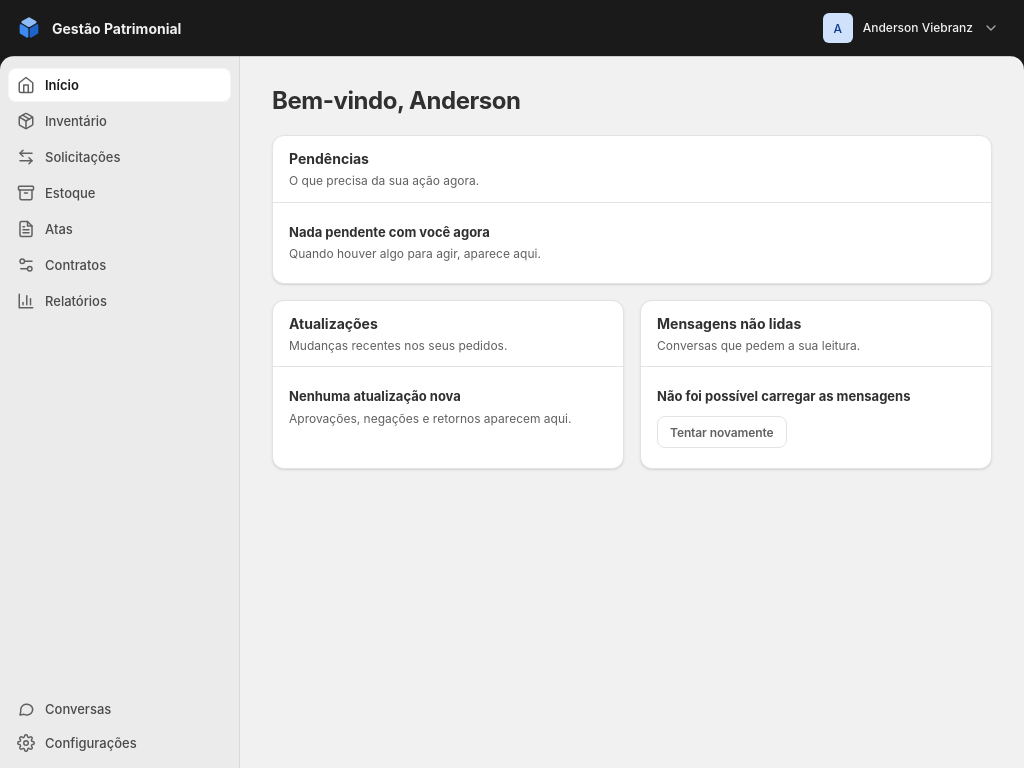
it: Relatórios (Administrador) › Empréstimos: mostra cards de resumo e a tabela com equipamento/patrimônio/status
Expected: the heading "Bem-vindo, Anderson" is shown, 272,88 -> 521,115
Step 1. Click the link "Relatórios" → (62, 301), box 17,292 -> 107,310
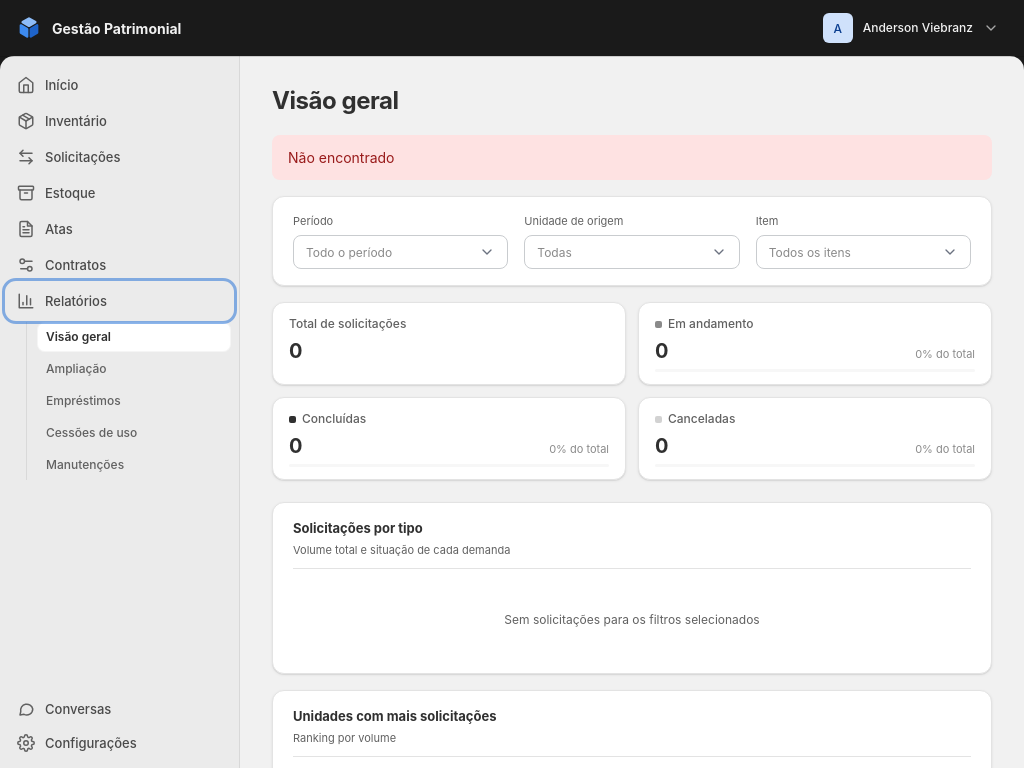
Result: the heading "Visão geral" is shown at 272,88 -> 399,115
Step 2. Click the link "Empréstimos" → (83, 400), box 46,393 -> 121,408
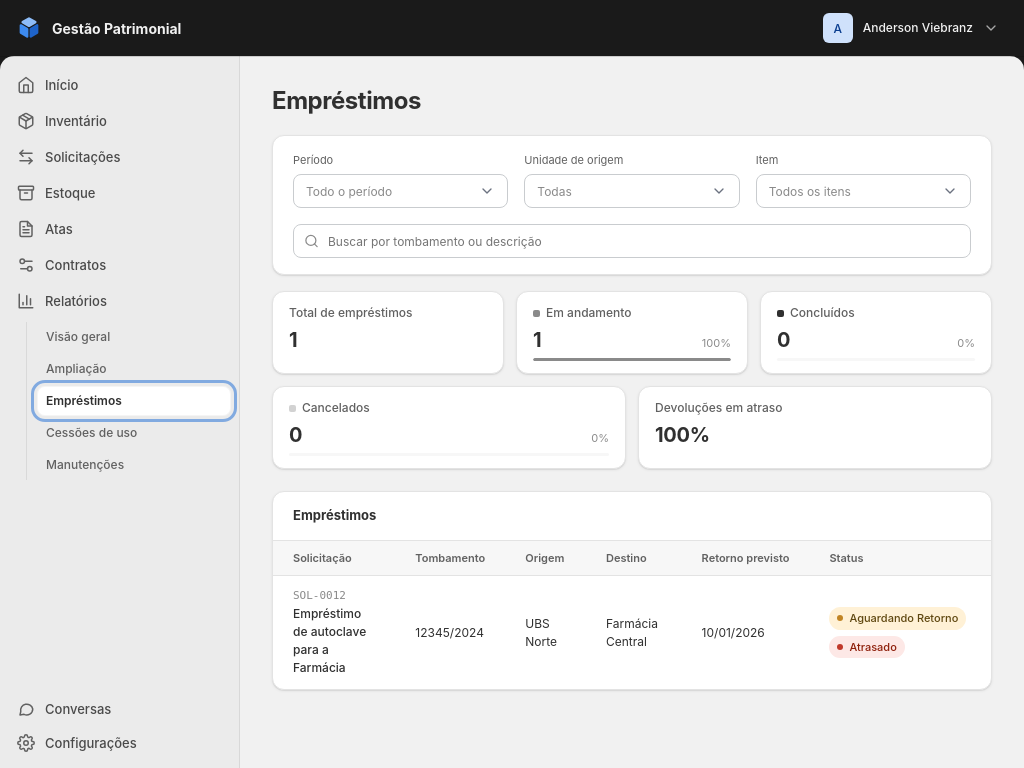
Result: the 1st heading "Empréstimos" is shown at 272,88 -> 421,115
Result: the text "Total de empréstimos" is shown at 289,305 -> 412,320
Result: the column heading "Solicitação" is shown at 273,541 -> 395,576
